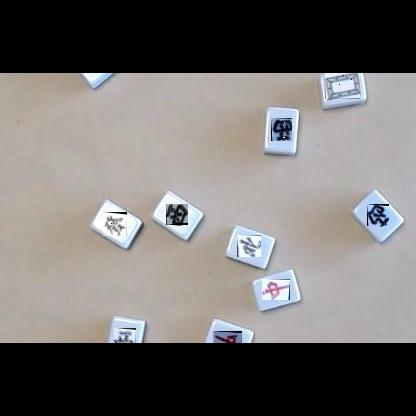3z: (367, 204, 389, 226), (271, 118, 292, 141), (166, 204, 188, 225), (114, 328, 136, 343)
4z: (237, 235, 261, 257)
5z: (325, 73, 360, 99)
6z: (103, 212, 127, 236)
7z: (262, 279, 290, 300), (213, 331, 242, 343)
